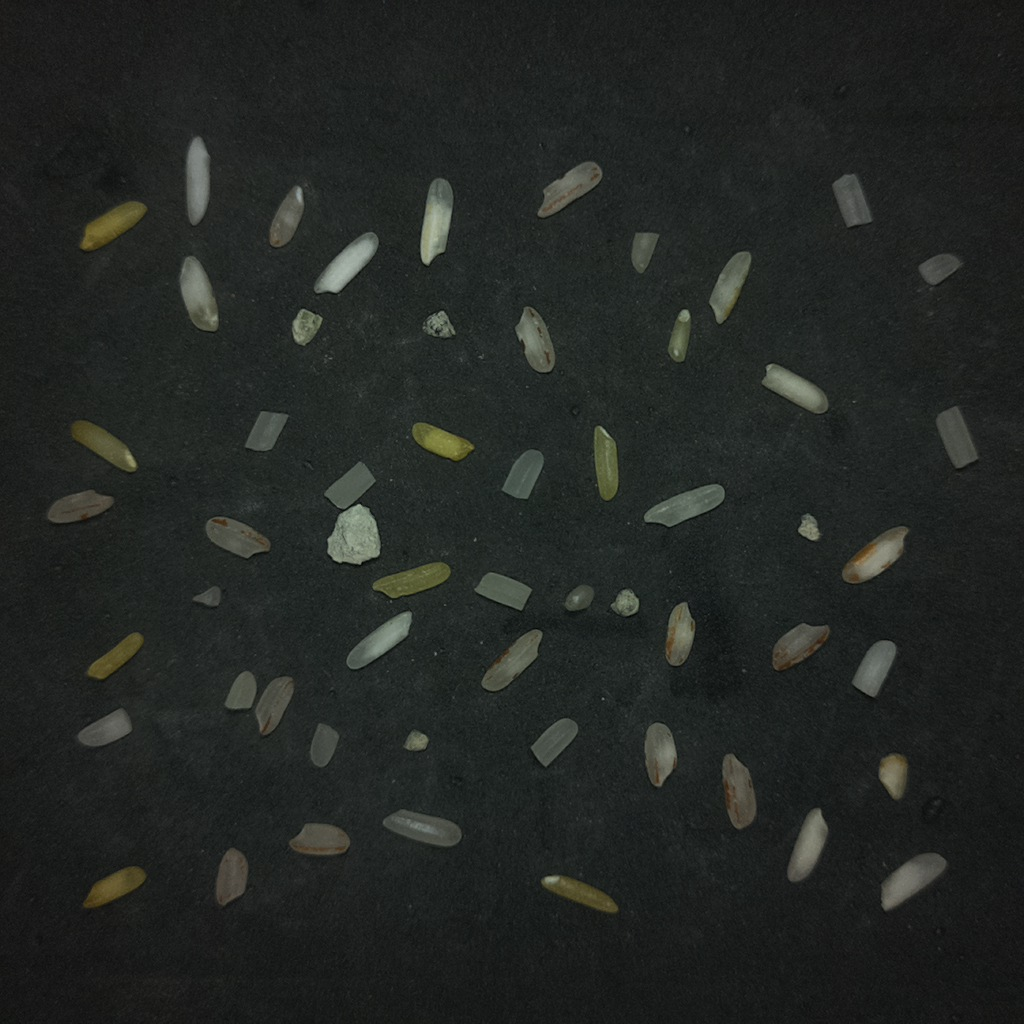broken: (709, 251, 752, 324), (936, 406, 977, 469), (852, 641, 896, 697), (324, 462, 374, 509), (531, 718, 577, 767), (832, 174, 873, 228), (474, 572, 531, 610), (502, 449, 543, 499), (77, 708, 130, 746), (245, 411, 288, 451), (918, 253, 962, 285), (309, 722, 338, 767), (224, 670, 256, 709), (631, 232, 660, 274), (564, 584, 594, 611), (192, 586, 221, 607)
chalky: (314, 232, 378, 293), (881, 852, 947, 910), (346, 611, 411, 669), (761, 363, 828, 413), (787, 808, 828, 882), (420, 178, 454, 266), (179, 257, 218, 331), (186, 136, 209, 225)
damaged: (668, 309, 691, 362)
discolored: (71, 420, 137, 472), (79, 201, 146, 251), (541, 876, 618, 913), (372, 563, 450, 598), (82, 866, 146, 908), (87, 632, 143, 679), (412, 422, 474, 460), (594, 426, 618, 500)
foreign: (327, 504, 377, 563), (292, 308, 322, 345), (422, 310, 456, 339), (610, 588, 639, 616), (797, 513, 821, 540), (403, 729, 428, 751)
red: (842, 526, 908, 583), (481, 630, 542, 691), (537, 161, 602, 217), (205, 516, 270, 558), (515, 306, 555, 372), (773, 623, 829, 670), (722, 753, 755, 828), (254, 676, 293, 735), (47, 490, 113, 523), (644, 722, 677, 787), (269, 185, 303, 247), (289, 823, 349, 855), (215, 847, 247, 906), (665, 602, 694, 666), (878, 753, 907, 800)
whole: (644, 485, 724, 526), (382, 809, 461, 847)
